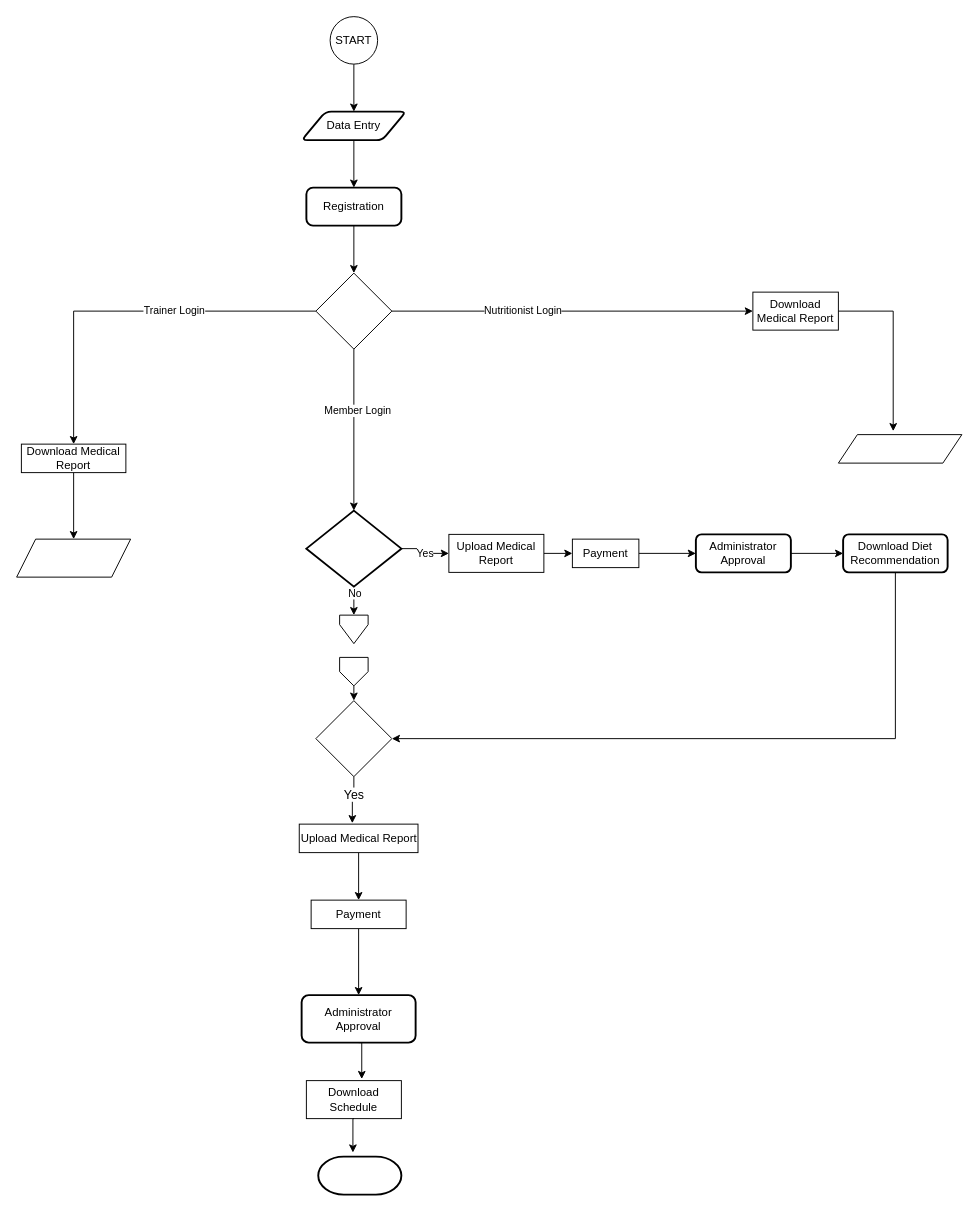
The diagram is 979 pixels wide and 1212 high, and some of its shapes have lost their labels. The box of each missing label's shape, as (x1, y1, x2, y2) in pixels:
Apply for Nutritionist: (305, 509, 402, 587)
Apply for Trainer: (315, 700, 392, 777)
End: (317, 1155, 402, 1195)
Upload Diet Recommendation: (837, 434, 962, 463)
Upload Schedule: (16, 538, 131, 577)
User Login: (315, 272, 392, 349)
